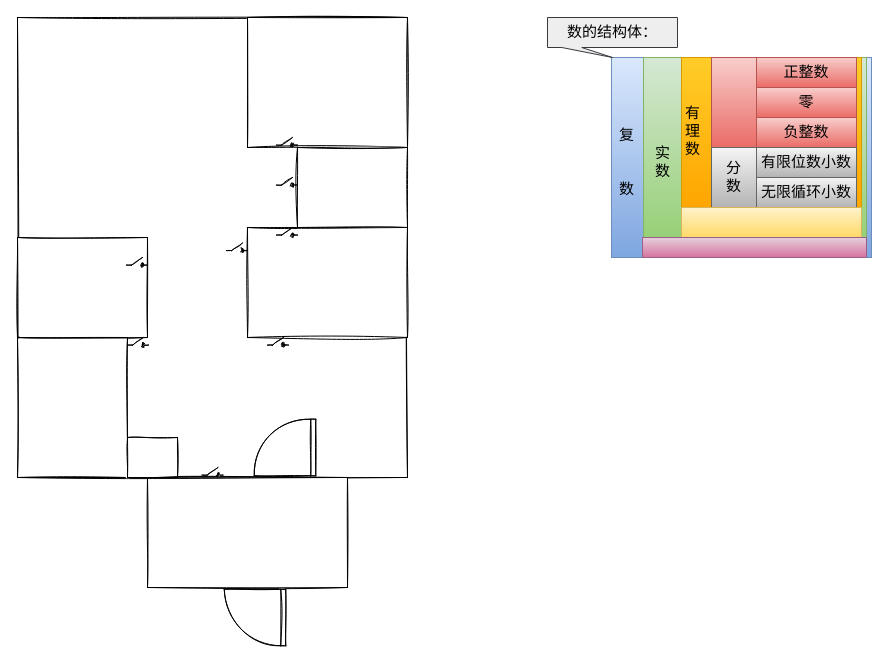
The diagram is 889 pixels wide and 664 high, and some of its shapes have lost their labels. The centre of each missing label's shape, as x and y in pixels:
"整 数" belongs at [733,102].
"无限不循环小数" belongs at [771,222].
"虚数" belongs at [754,247].
